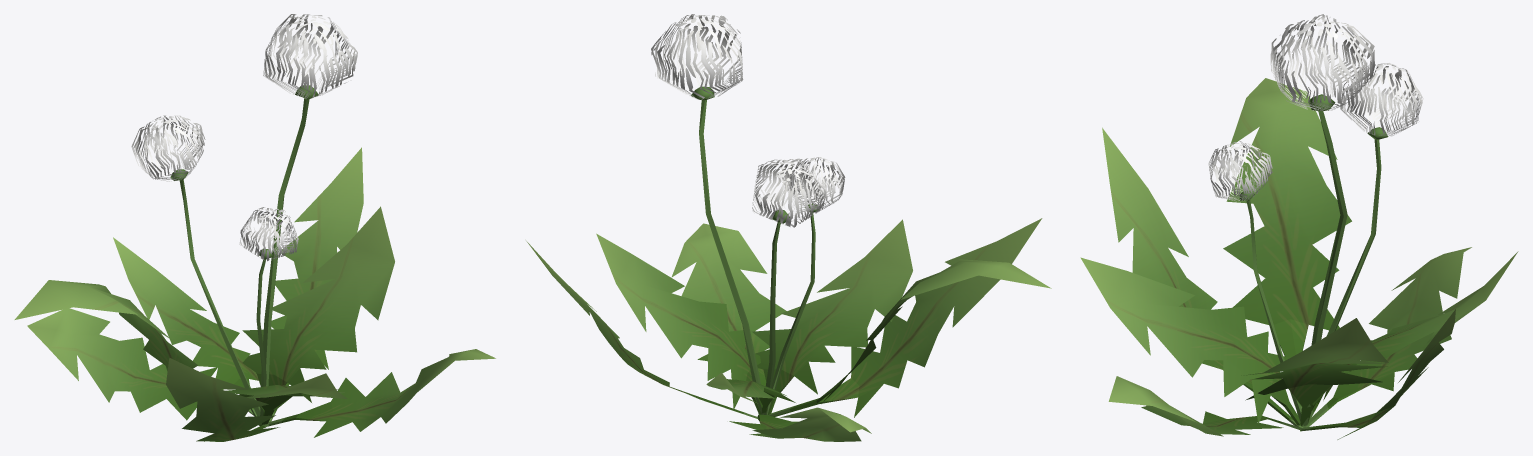
File: FluffDandelion01.fbx
3 renders of one model, left to right at view 1: azimuth 30°, elevation 25°; view 2: azimuth 150°, elevation 25°; view 3: azimuth 270°, elevation 25°, orthographic. The views are drawn at different scales.
Parts seen in each view (by area): view 1: dandelions_01:DandelionLeaf8, dandelions_01:DandelionLeaf6, dandelions_01:DandelionLeaf4, dandelions_01:DandelionLeaf9, dandelions_01:dandelions_01:Dandelion_Fluffball02, dandelions_01:DandelionLeaf3, dandelions_01:DandelionLeaf5, dandelions_01:DandelionLeaf1, dandelions_01:Dandelion_Fluffball01, dandelions_01:dandelions_01:Dandelion_Fluffball01, dandelions_01:dandelions_01:Dandelion_FluffStem02, dandelions_01:DandelionLeaf2 (+2 smaller); view 2: dandelions_01:DandelionLeaf2, dandelions_01:DandelionLeaf3, dandelions_01:DandelionLeaf8, dandelions_01:DandelionLeaf5, dandelions_01:dandelions_01:Dandelion_Fluffball02, dandelions_01:DandelionLeaf1, dandelions_01:Dandelion_Fluffball01, dandelions_01:DandelionLeaf6, dandelions_01:dandelions_01:Dandelion_FluffStem02, dandelions_01:DandelionLeaf4, dandelions_01:dandelions_01:Dandelion_Fluffball01, dandelions_01:DandelionLeaf9 (+2 smaller); view 3: dandelions_01:DandelionLeaf1, dandelions_01:DandelionLeaf2, dandelions_01:DandelionLeaf3, dandelions_01:dandelions_01:Dandelion_Fluffball02, dandelions_01:DandelionLeaf6, dandelions_01:DandelionLeaf8, dandelions_01:Dandelion_Fluffball01, dandelions_01:DandelionLeaf5, dandelions_01:DandelionLeaf9, dandelions_01:dandelions_01:Dandelion_Fluffball01, dandelions_01:dandelions_01:Dandelion_FluffStem02, dandelions_01:DandelionLeaf4 (+2 smaller).
Boxes of the visible parts, x1,y1,x2,y2 form: dandelions_01:DandelionLeaf8: (242, 206, 394, 402); dandelions_01:DandelionLeaf6: (27, 308, 253, 420); dandelions_01:DandelionLeaf4: (269, 147, 363, 421); dandelions_01:DandelionLeaf9: (113, 237, 258, 416); dandelions_01:dandelions_01:Dandelion_Fluffball02: (263, 14, 357, 98); dandelions_01:DandelionLeaf3: (166, 358, 279, 441); dandelions_01:DandelionLeaf5: (267, 349, 495, 437); dandelions_01:DandelionLeaf1: (14, 280, 261, 424); dandelions_01:Dandelion_Fluffball01: (131, 115, 205, 181); dandelions_01:dandelions_01:Dandelion_Fluffball01: (239, 207, 298, 261); dandelions_01:dandelions_01:Dandelion_FluffStem02: (258, 85, 318, 425); dandelions_01:DandelionLeaf2: (226, 373, 347, 428); dandelions_01:DandelionLeaf2: (752, 219, 912, 414); dandelions_01:DandelionLeaf3: (771, 218, 1042, 417); dandelions_01:DandelionLeaf8: (596, 233, 760, 414); dandelions_01:DandelionLeaf5: (671, 223, 786, 420); dandelions_01:dandelions_01:Dandelion_Fluffball02: (651, 14, 743, 99); dandelions_01:DandelionLeaf1: (759, 259, 1051, 420); dandelions_01:Dandelion_Fluffball01: (752, 158, 826, 227); dandelions_01:DandelionLeaf6: (729, 407, 871, 441); dandelions_01:dandelions_01:Dandelion_FluffStem02: (691, 86, 761, 414); dandelions_01:DandelionLeaf4: (526, 241, 757, 418); dandelions_01:dandelions_01:Dandelion_Fluffball01: (784, 157, 845, 210); dandelions_01:DandelionLeaf9: (706, 372, 795, 414); dandelions_01:DandelionLeaf1: (1223, 78, 1351, 431); dandelions_01:DandelionLeaf2: (1080, 257, 1300, 425); dandelions_01:DandelionLeaf3: (1102, 127, 1301, 431); dandelions_01:dandelions_01:Dandelion_Fluffball02: (1270, 14, 1374, 110); dandelions_01:DandelionLeaf6: (1303, 247, 1471, 427); dandelions_01:DandelionLeaf8: (1241, 318, 1388, 426); dandelions_01:Dandelion_Fluffball01: (1340, 63, 1423, 136); dandelions_01:DandelionLeaf5: (1108, 376, 1302, 436); dandelions_01:DandelionLeaf9: (1309, 251, 1518, 419); dandelions_01:dandelions_01:Dandelion_Fluffball01: (1208, 141, 1272, 201); dandelions_01:dandelions_01:Dandelion_FluffStem02: (1302, 94, 1347, 425); dandelions_01:DandelionLeaf4: (1301, 309, 1455, 439).
Bounding box in the file's own units: 11.69 × 10.11 × 9.15.
